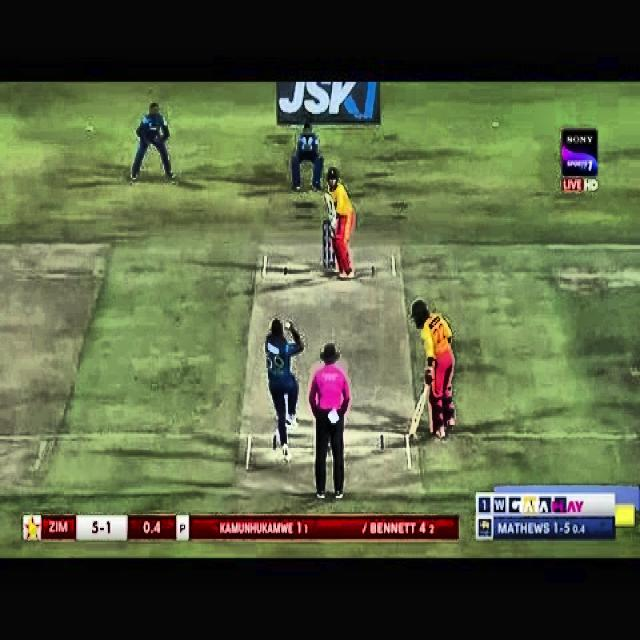Left-stump: (323, 224, 326, 266)
Middle-stump: (328, 224, 331, 266)
Right-stump: (332, 250, 335, 266)
